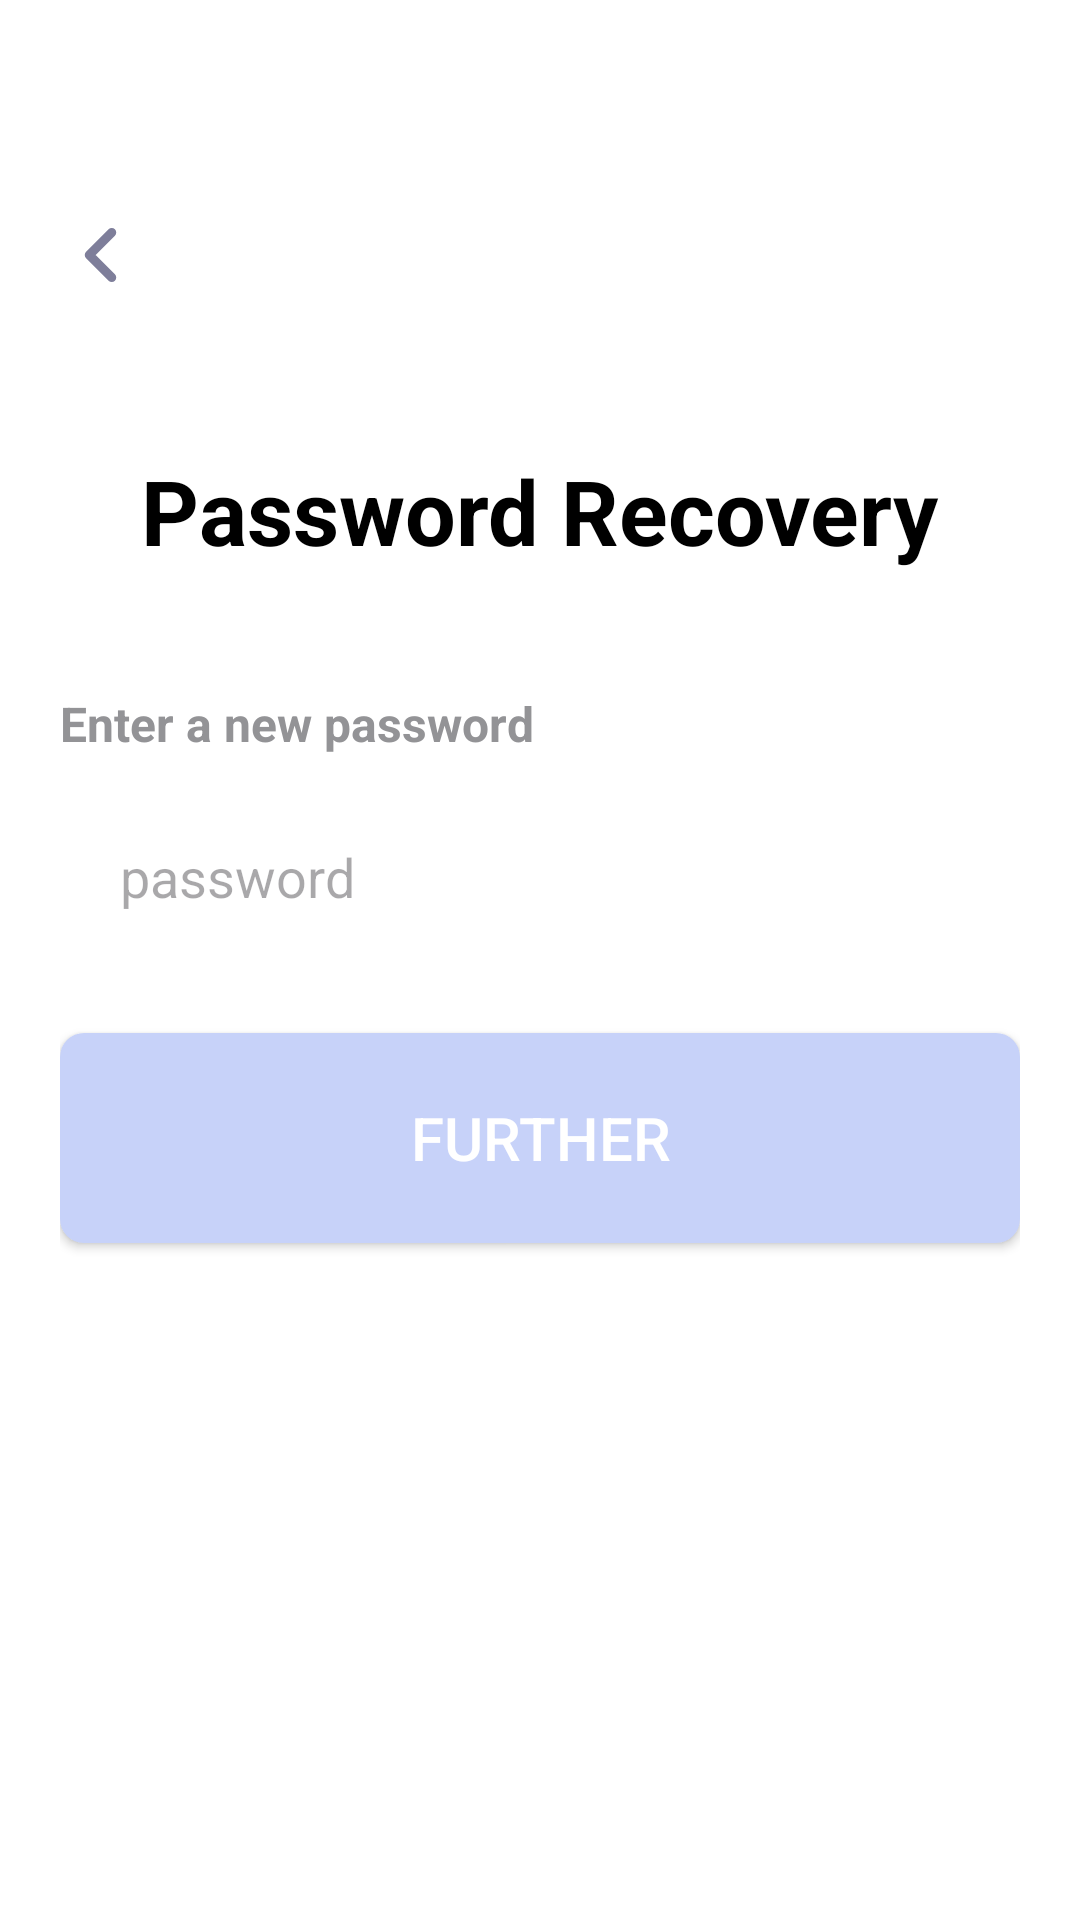

Screen size 1080*1920. Icon name, then its center in pixels as [x,y]:
arrow: [101,255]
